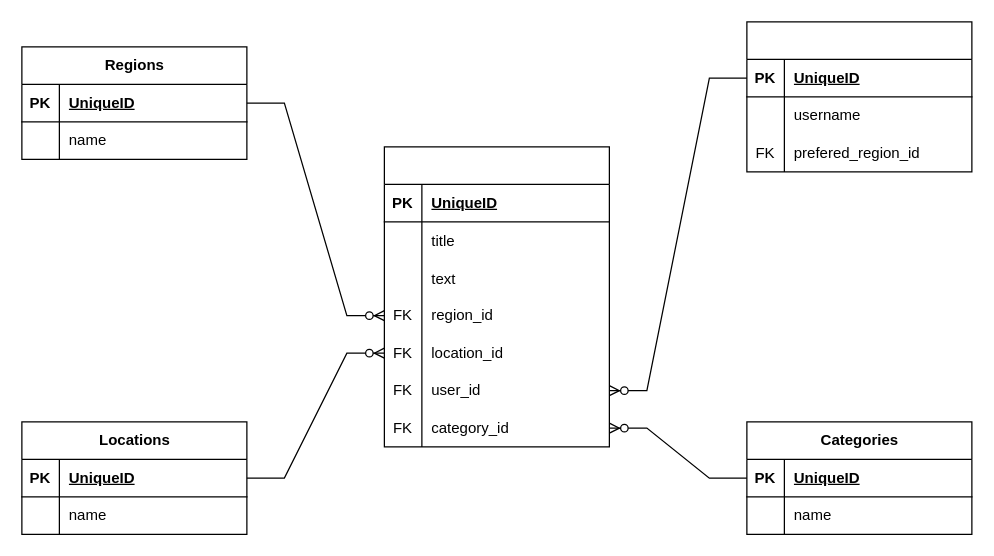
Image size: 994x556. Some labels were removed from this diagram. Here are the shapes that lost their labels. From the top down, the box of each, then its label:
(746, 21, 972, 172): Users
(383, 146, 609, 447): Posts
